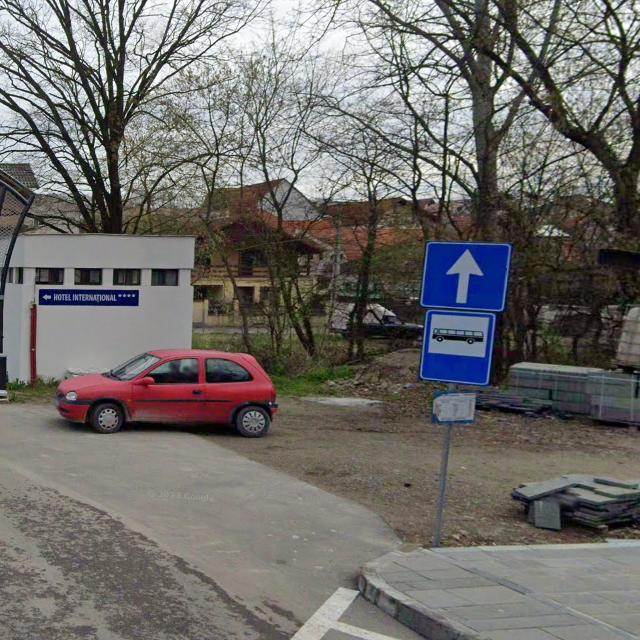info_bus_station: (419, 308, 495, 387)
info_one_way_traffic: (418, 240, 514, 312)
